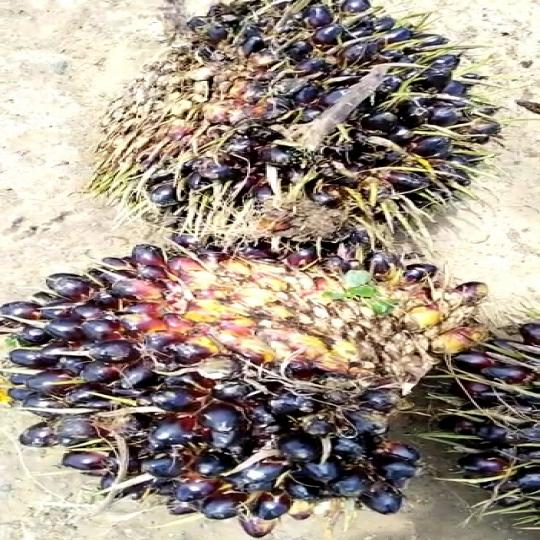mentah: (4, 228, 496, 532), (99, 0, 516, 251)
